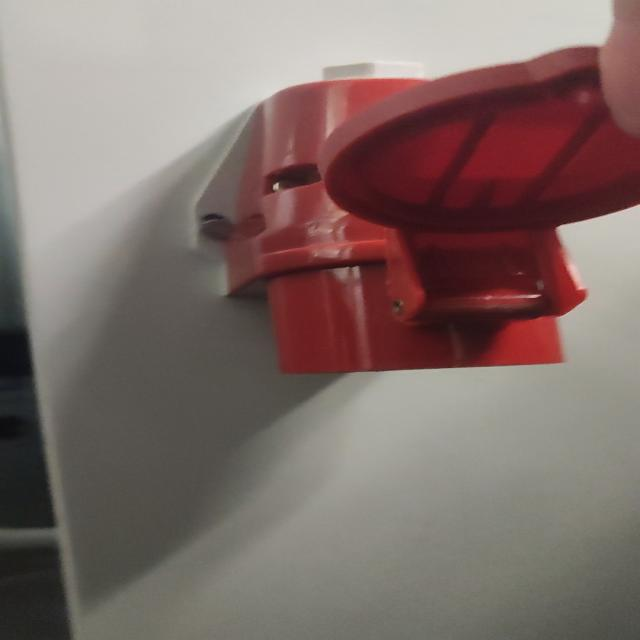400v socket down: (196, 48, 640, 375)
